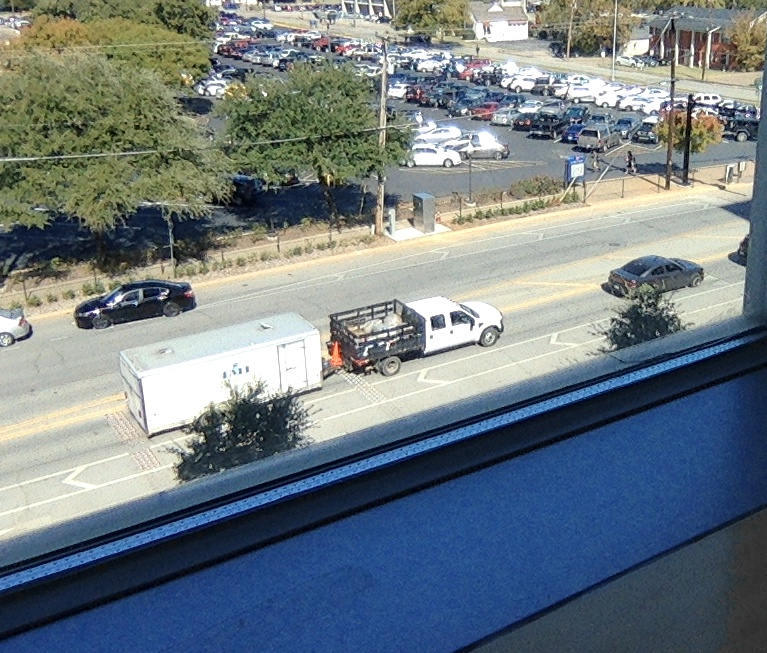car: (300, 300, 467, 389)
